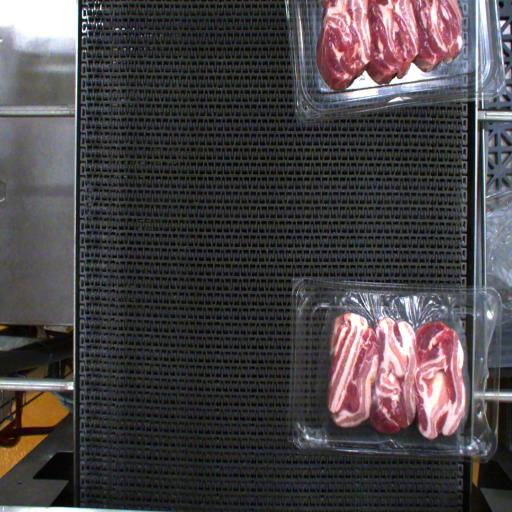unsealed: (327, 288, 466, 385)
